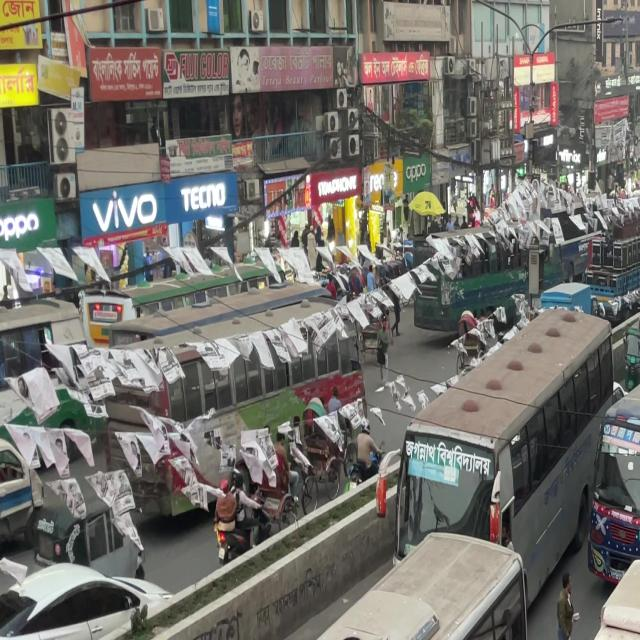bus: (352, 285, 609, 528), (140, 537, 534, 640), (593, 320, 640, 560)
van: (551, 559, 640, 640)
